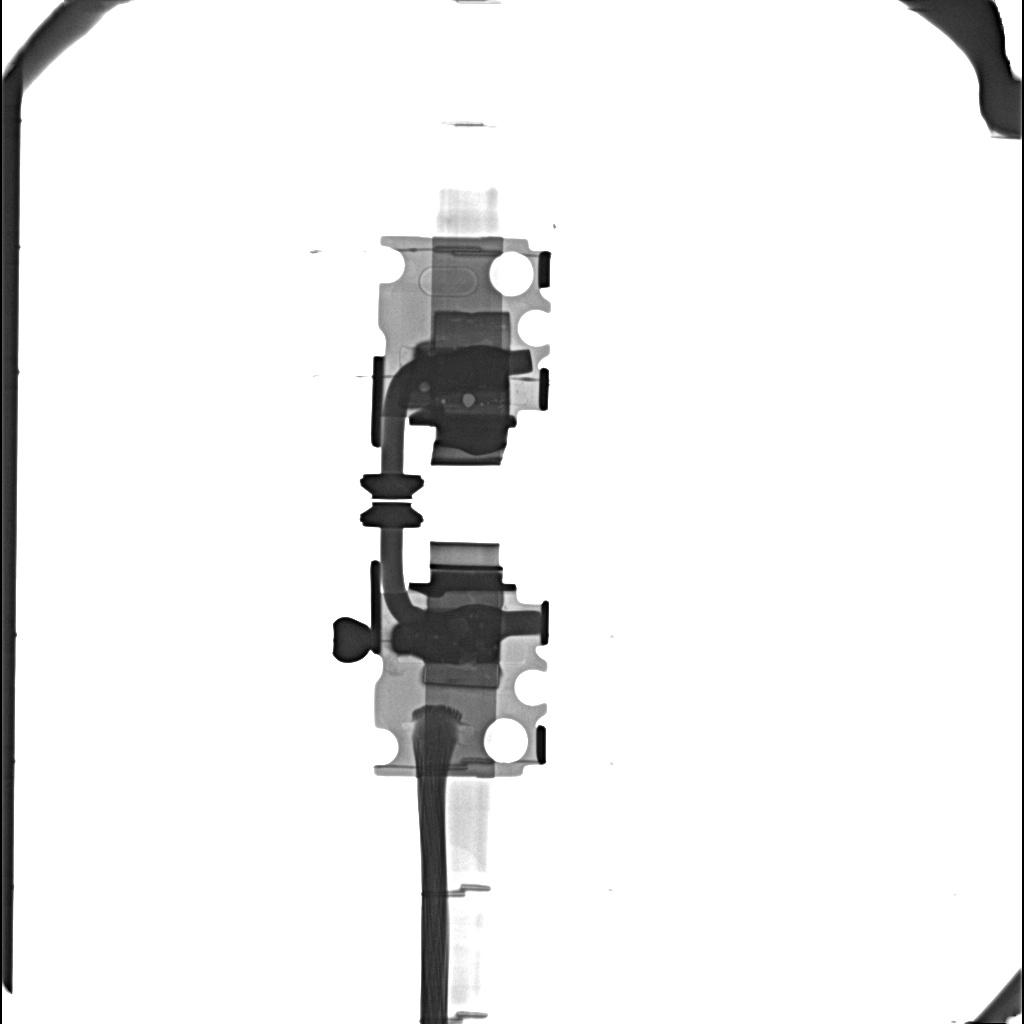defect: (392, 611, 500, 660), (414, 346, 508, 392), (422, 648, 500, 689), (432, 311, 511, 349), (462, 393, 476, 408)
